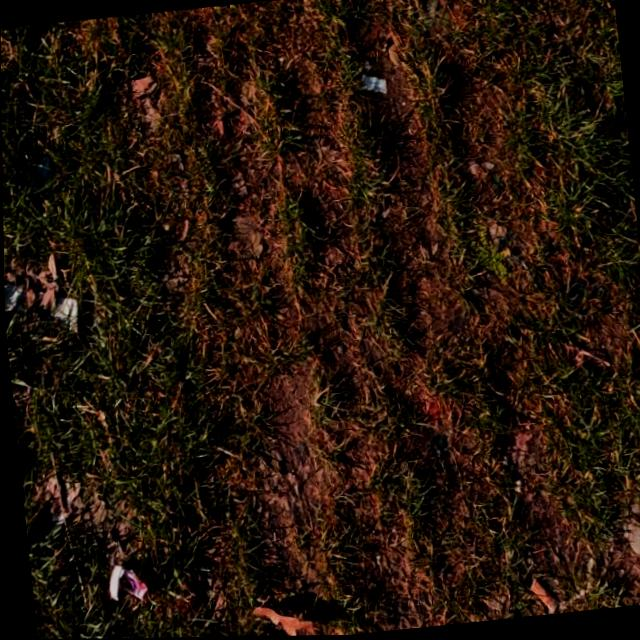Plastic: (102, 557, 147, 606)
